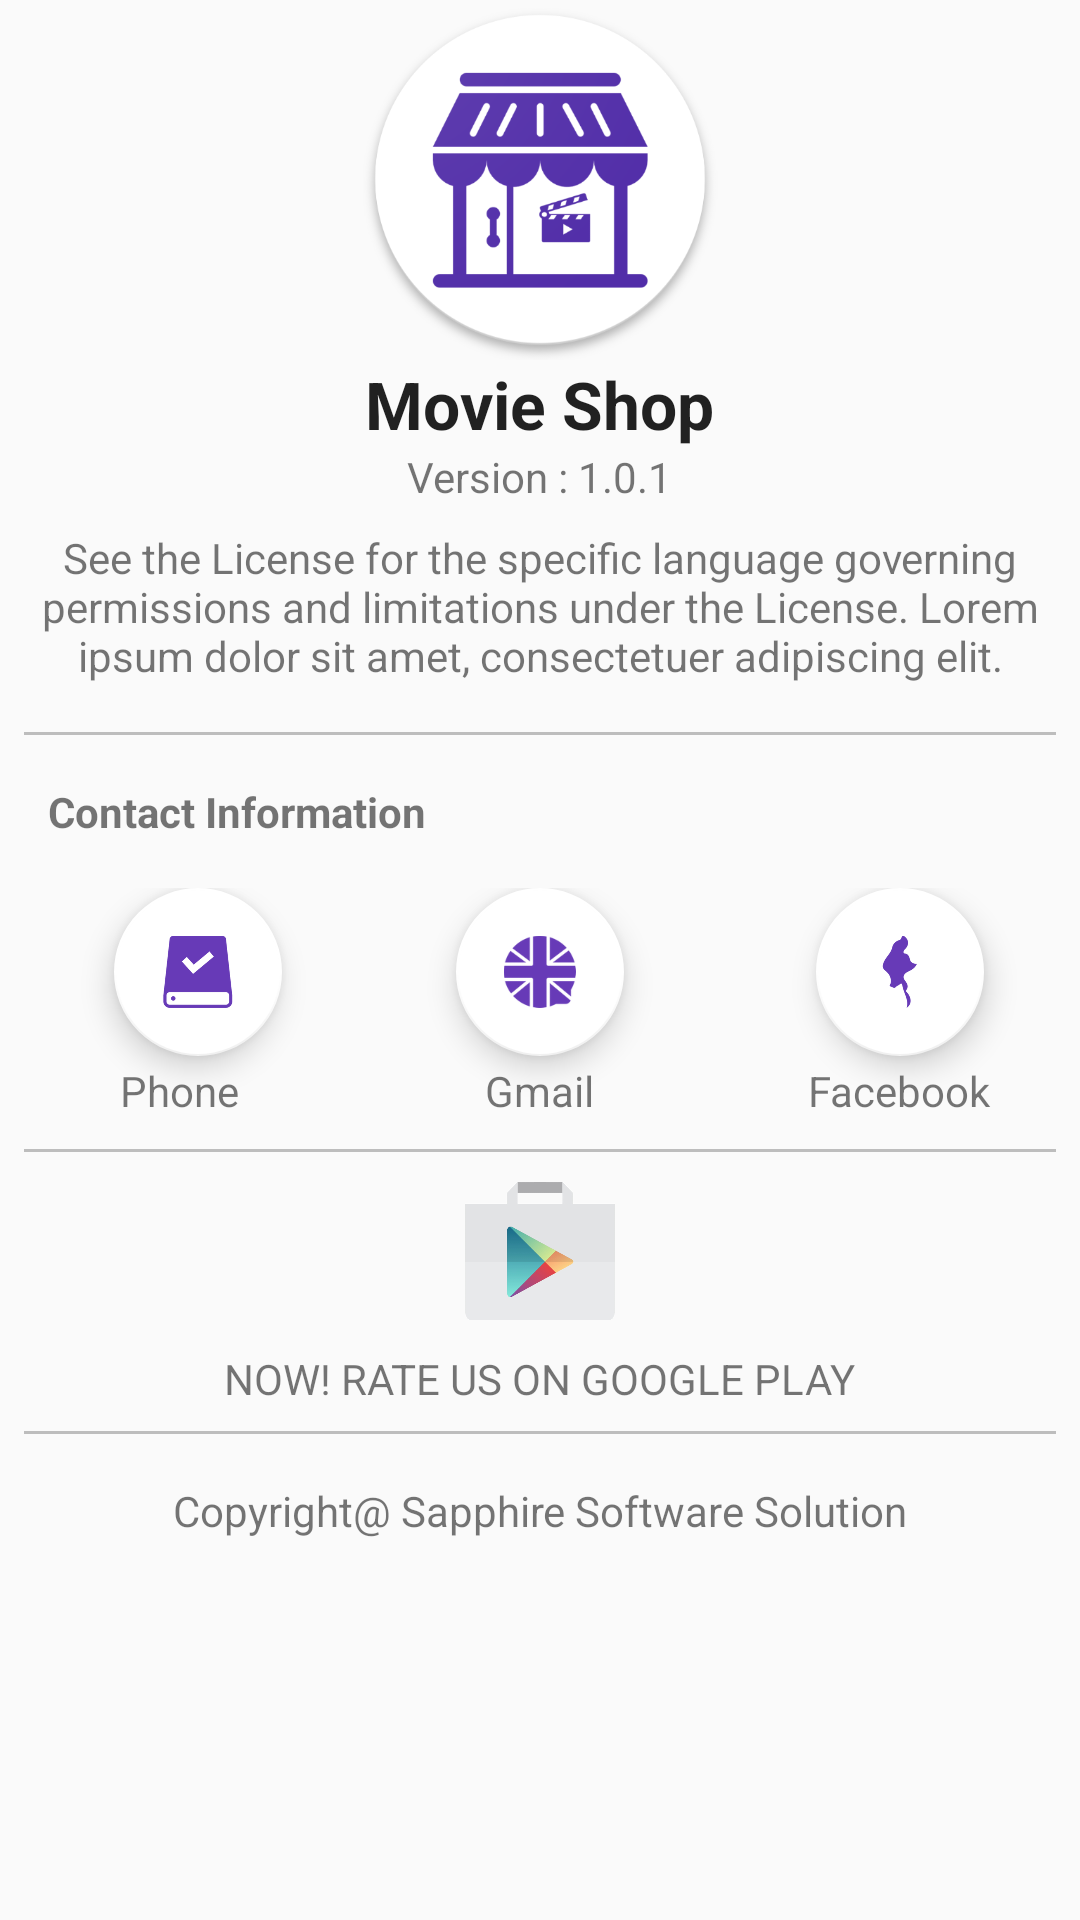

Where icons sit on this 1080*1920 app screen, as {"left": x1, "top": y1, "right": x2, "bottom": y2}:
english: {"left": 504, "top": 936, "right": 576, "bottom": 1008}
